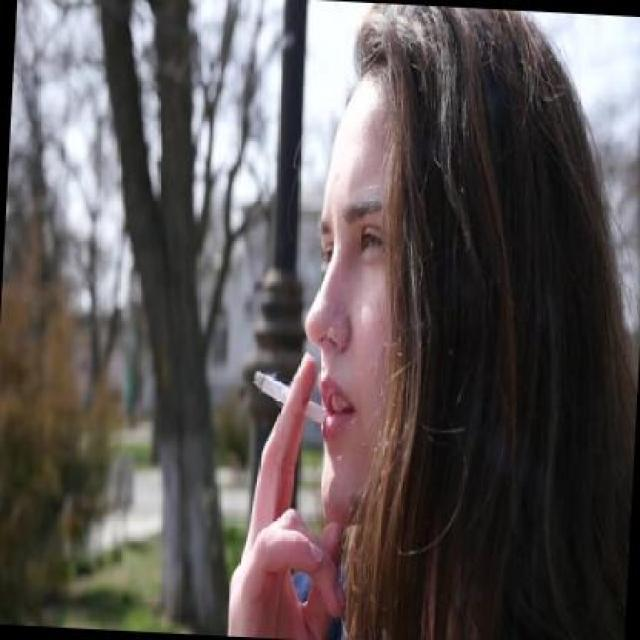cigarette: (246, 367, 329, 427)
